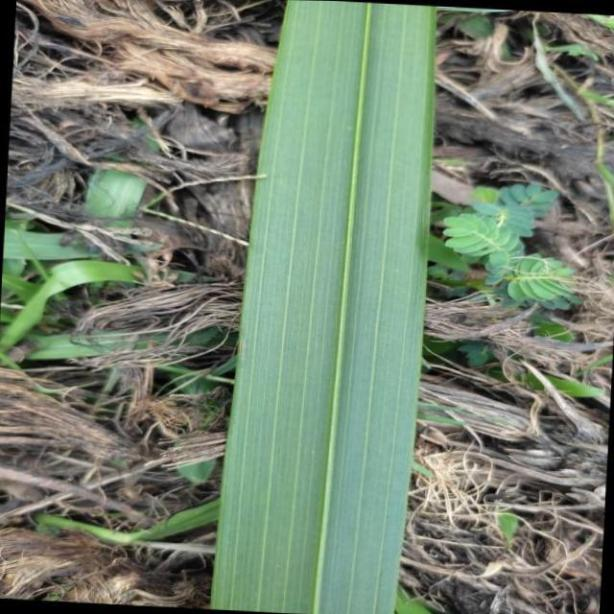Healthy: (208, 0, 436, 614)
